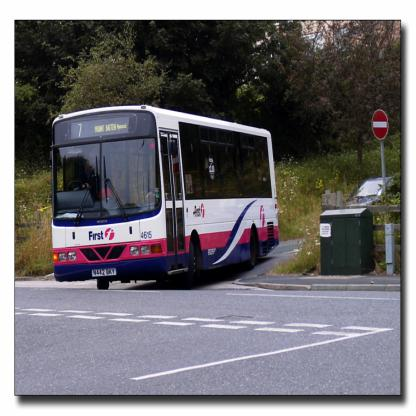Bus: (52, 103, 281, 290)
